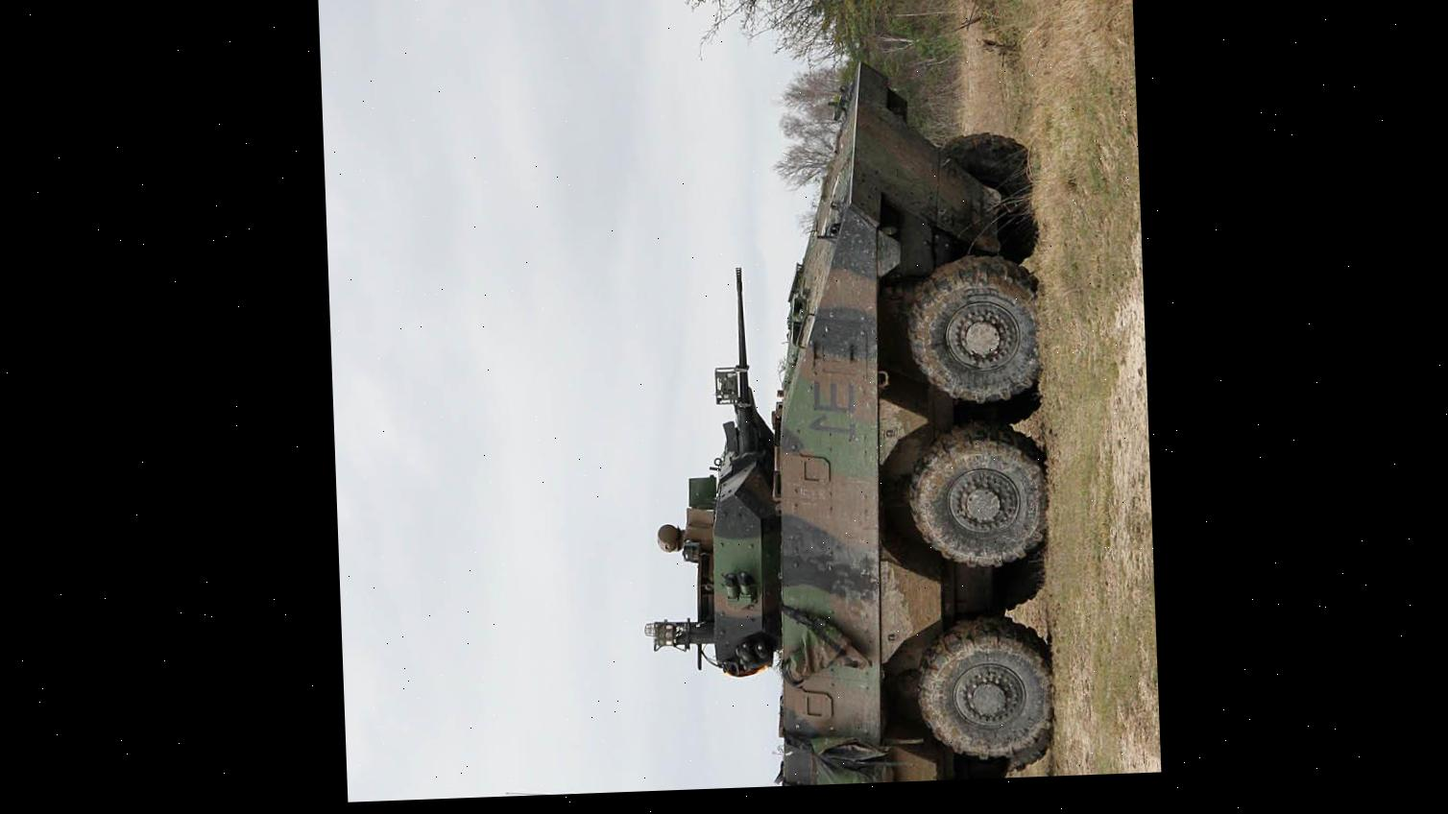tank: (621, 54, 1058, 791)
